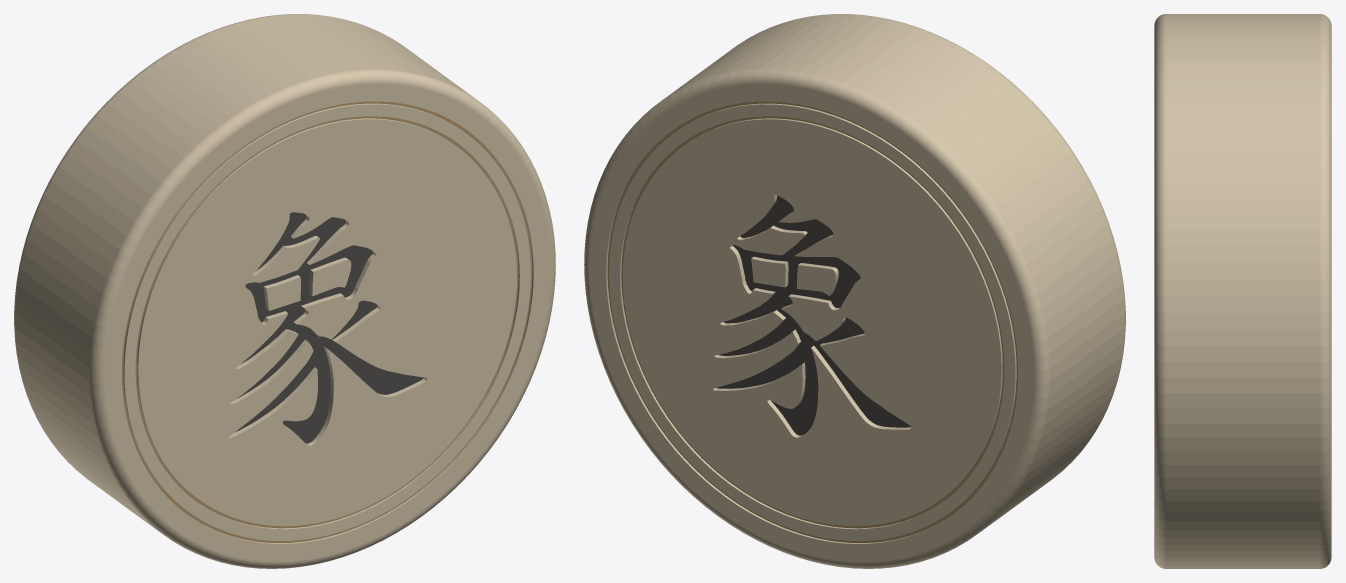
3 views of the same model, side by side, from view 1: azimuth 30°, elevation 25°; view 2: azimuth 150°, elevation 25°; view 3: azimuth 270°, elevation 25° (orthographic). The views are drawn at different scales.
Visible parts, largest first — view 1: wood, engraved_letters, engraved_border; view 2: wood, engraved_letters, engraved_border; view 3: wood.
Boxes of the visible parts, left/top/right/bottom form: wood: left=14, top=14, right=555, bottom=568; engraved_letters: left=235, top=212, right=423, bottom=443; engraved_border: left=122, top=101, right=532, bottom=542; wood: left=584, top=14, right=1125, bottom=568; engraved_letters: left=716, top=195, right=910, bottom=435; engraved_border: left=607, top=101, right=1017, bottom=542; wood: left=1154, top=14, right=1331, bottom=568.
Bounding box in the file's own units: 0.047 × 0.047 × 0.015.
